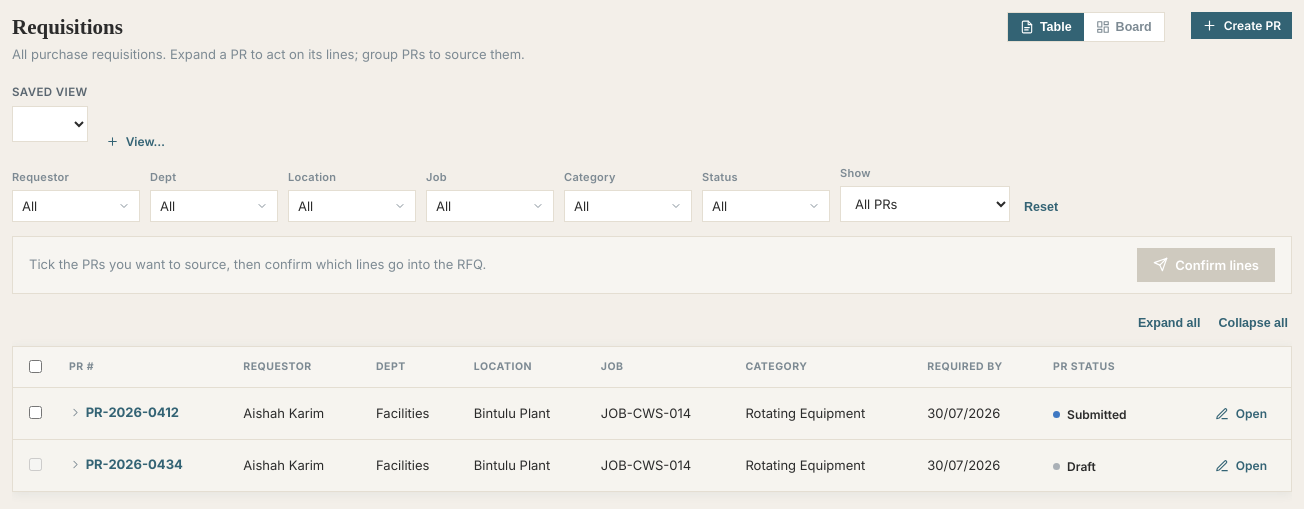
Test: Requisitions › Status filter narrows the list by PR header status
The width and height of the screenshot is (1304, 509).
Check: the text "PR-2026-0434" is shown, box left=86, top=456, right=183, bottom=472
Click the button with aria-label "Filter by Status" at {"x": 766, "y": 206}, box left=702, top=190, right=830, bottom=222
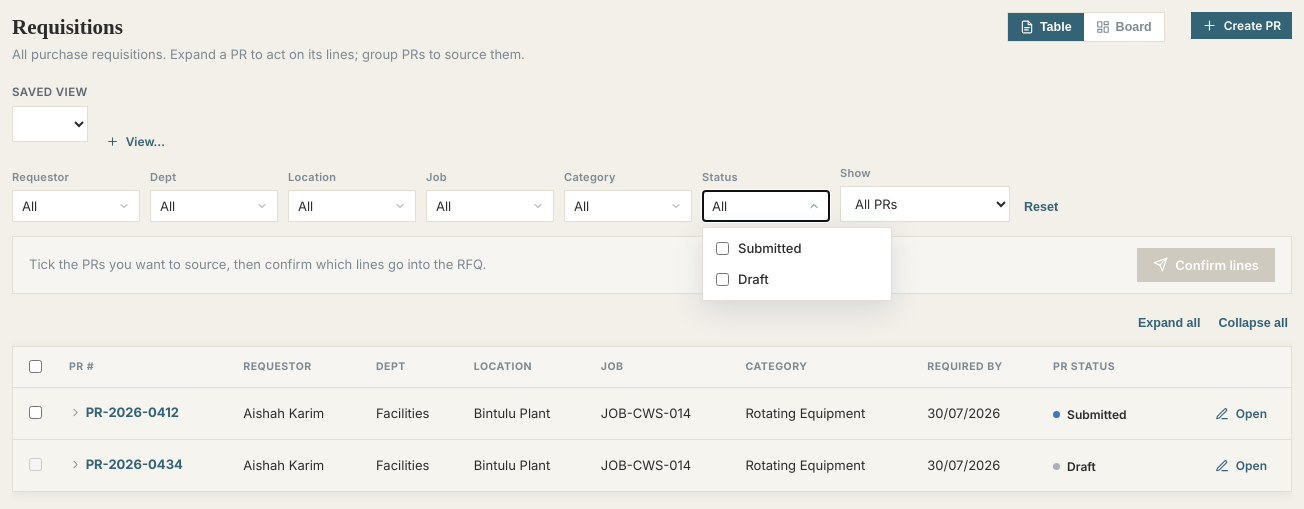
Click the checkbox labelled "Submitted" at {"x": 722, "y": 248}, box left=716, top=242, right=729, bottom=255
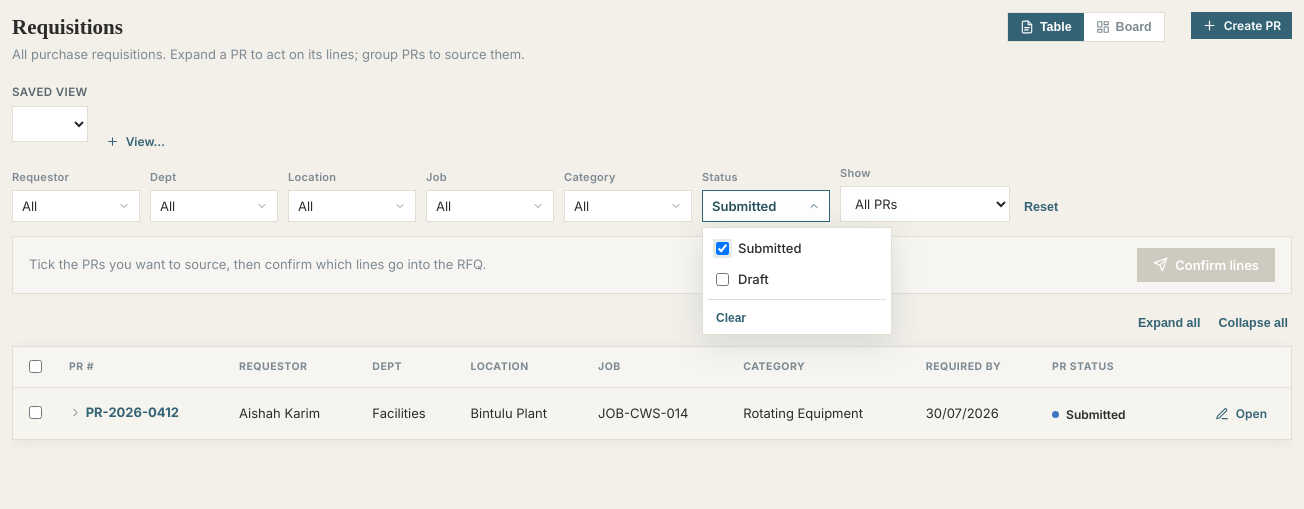
Check: the text "PR-2026-0412" is shown, box left=86, top=404, right=179, bottom=420
Check: the text "PR-2026-0434" is gone
